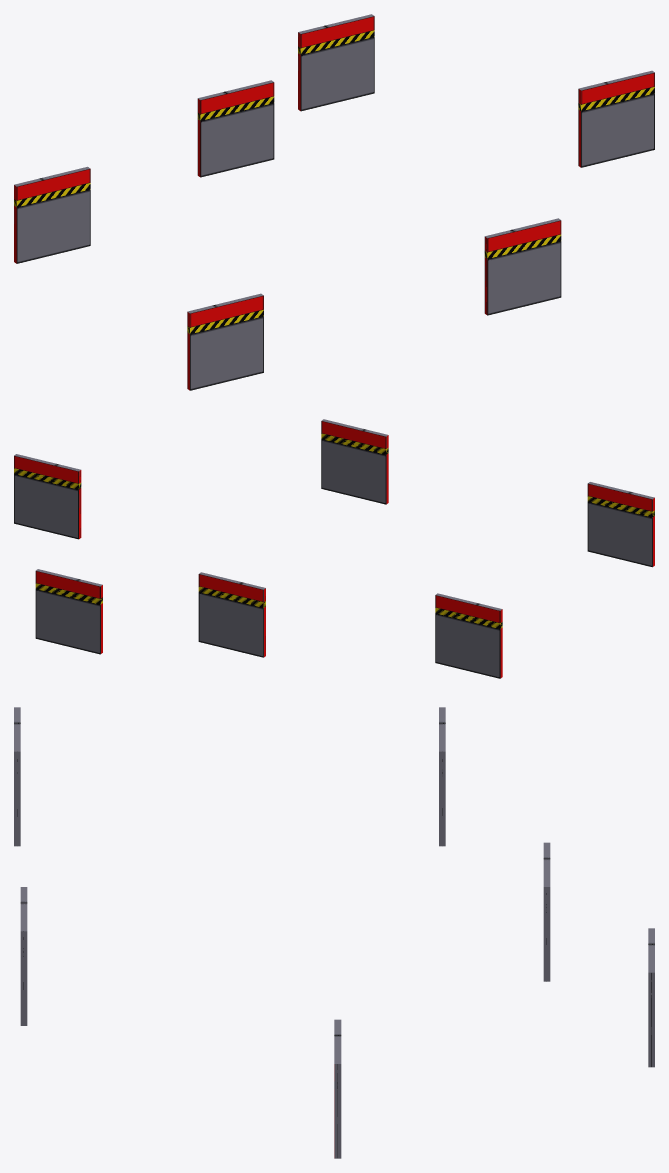
The model's file is Paredes1.glb.
3 views of the same model, one above another, from view 1: azimuth 30°, elevation 25°; view 2: azimuth 150°, elevation 25°; view 3: azimuth 270°, elevation 25° (orthographic). The views are drawn at different scales.
Parts seen in each view (by area): view 1: Cube.194, Cube.190, Cube.191, Cube.195, Cube.192, Cube.193; view 2: Cube.190, Cube.192, Cube.194, Cube.193, Cube.195, Cube.191; view 3: Cube.195, Cube.190, Cube.194, Cube.191, Cube.192, Cube.193.
Part boxes in pixels (x1,y1,x2,y2): Cube.194: (484, 218, 561, 315); Cube.190: (197, 80, 274, 177); Cube.191: (298, 14, 374, 111); Cube.195: (578, 70, 654, 167); Cube.192: (14, 166, 90, 263); Cube.193: (187, 293, 263, 390); Cube.190: (198, 572, 265, 657); Cube.192: (435, 593, 502, 678); Cube.194: (321, 419, 388, 504); Cube.193: (587, 482, 654, 567); Cube.195: (14, 454, 81, 539); Cube.191: (35, 569, 102, 654); Cube.195: (334, 1019, 341, 1158); Cube.190: (543, 842, 550, 981); Cube.194: (20, 887, 27, 1025); Cube.191: (648, 928, 654, 1067); Cube.192: (439, 707, 445, 846); Cube.193: (14, 707, 20, 846).
Size of the model in its own units: 45.16 by 5.6 by 34.32.
2 materials, 2 textured.
